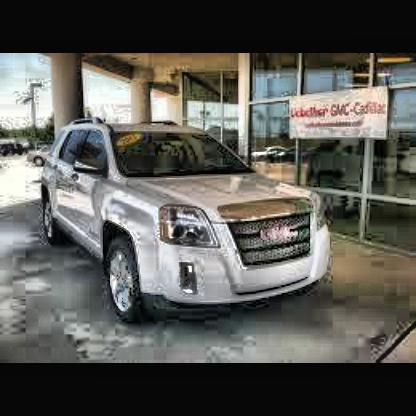GMC Terrain SUV 2012: (30, 117, 337, 326)
